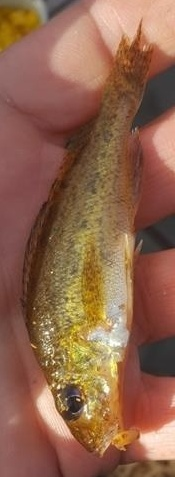Gymnocephalus cernuus: (20, 20, 155, 457)
